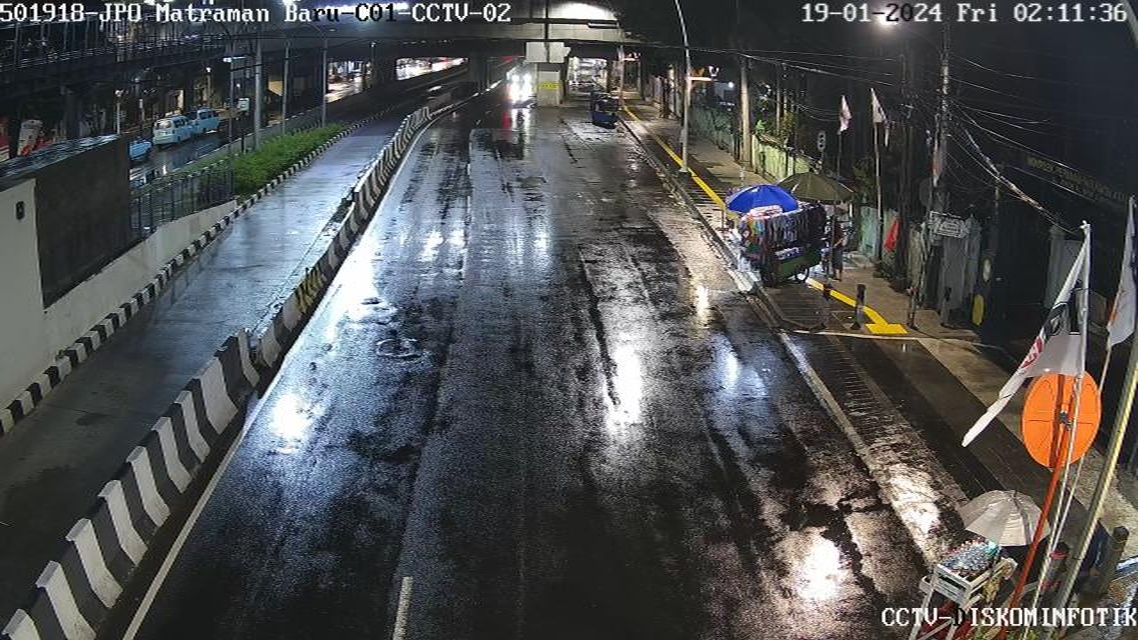Gerobak: (887, 548, 1021, 636), (736, 212, 836, 300)
